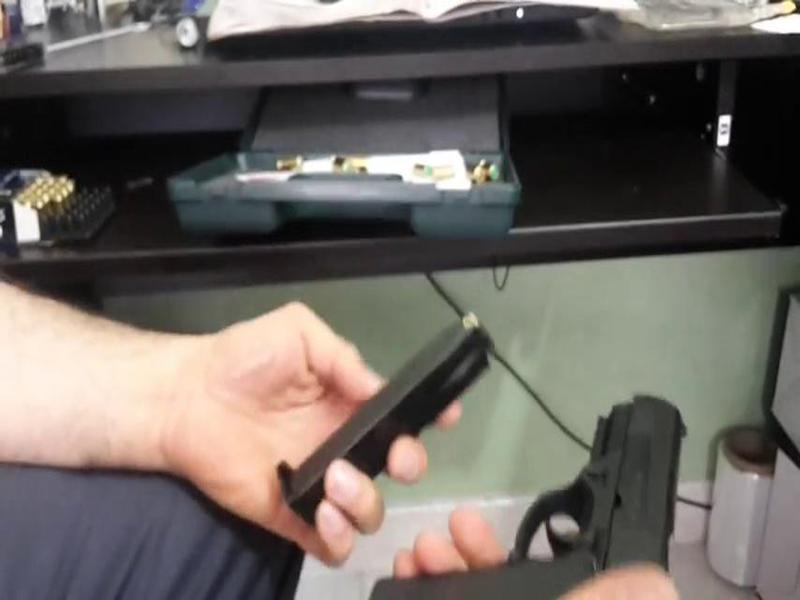Pistola: (360, 408, 697, 600)
